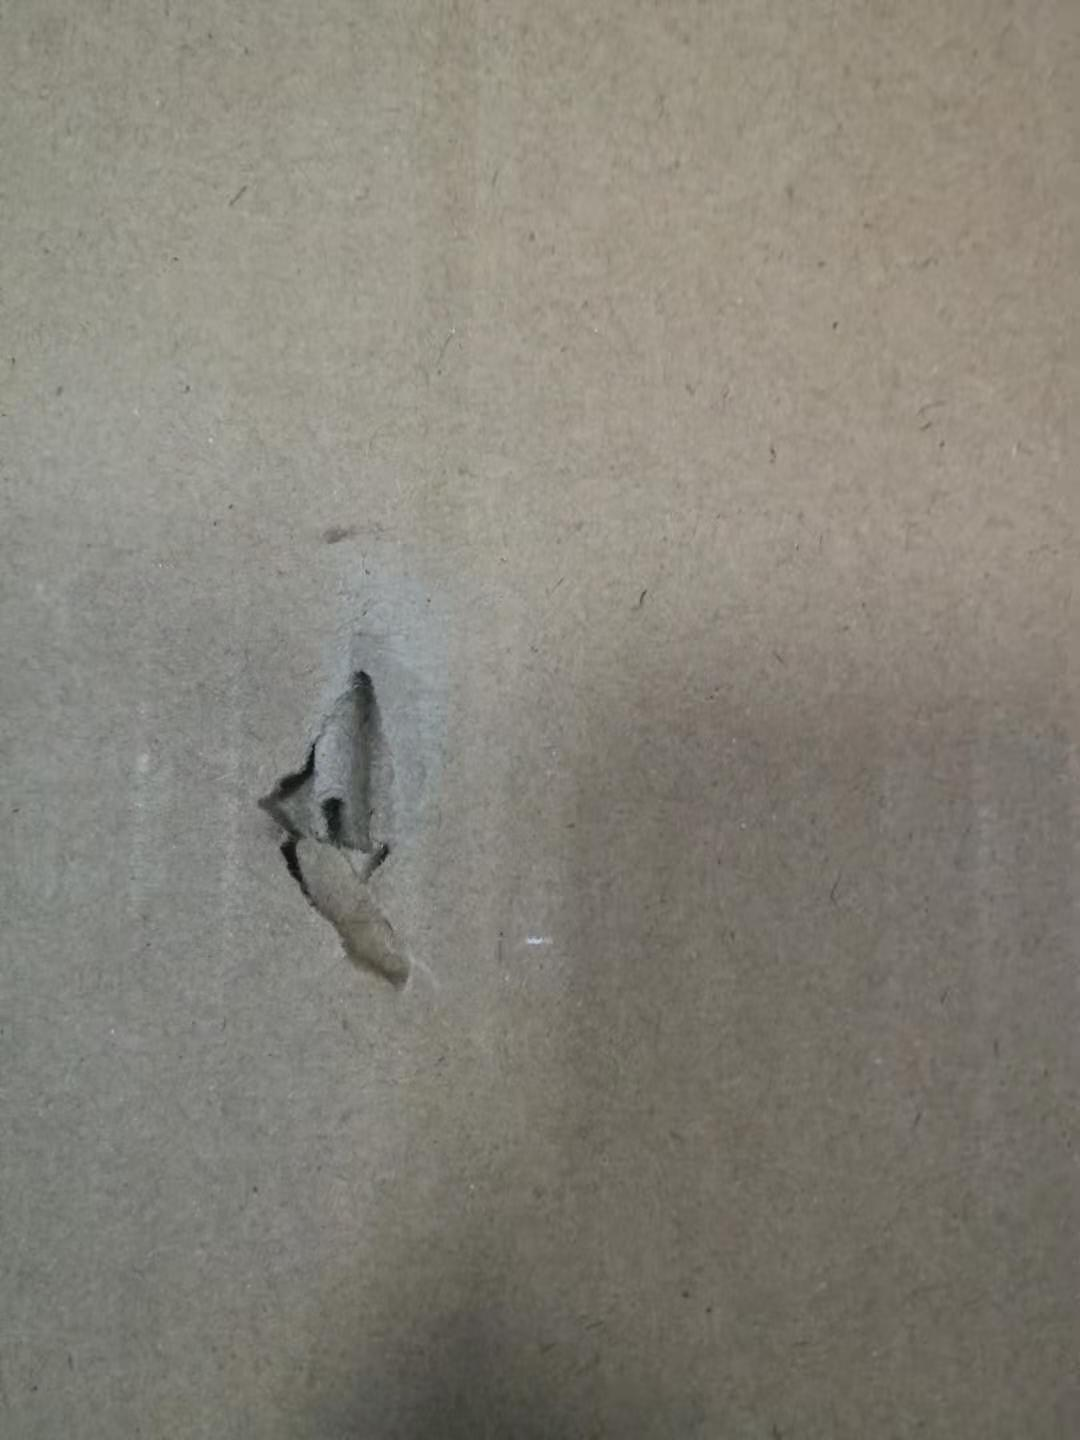defect: (185, 478, 523, 1047)
